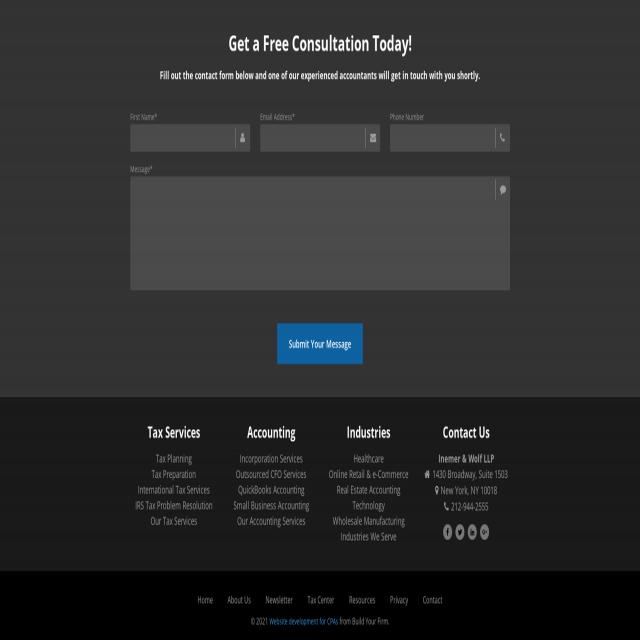button: (277, 323, 363, 364), (443, 524, 452, 540), (468, 524, 477, 540), (480, 524, 489, 540), (456, 524, 464, 540)
field: (130, 174, 510, 290), (130, 124, 250, 152), (260, 124, 380, 152), (390, 124, 510, 152)
